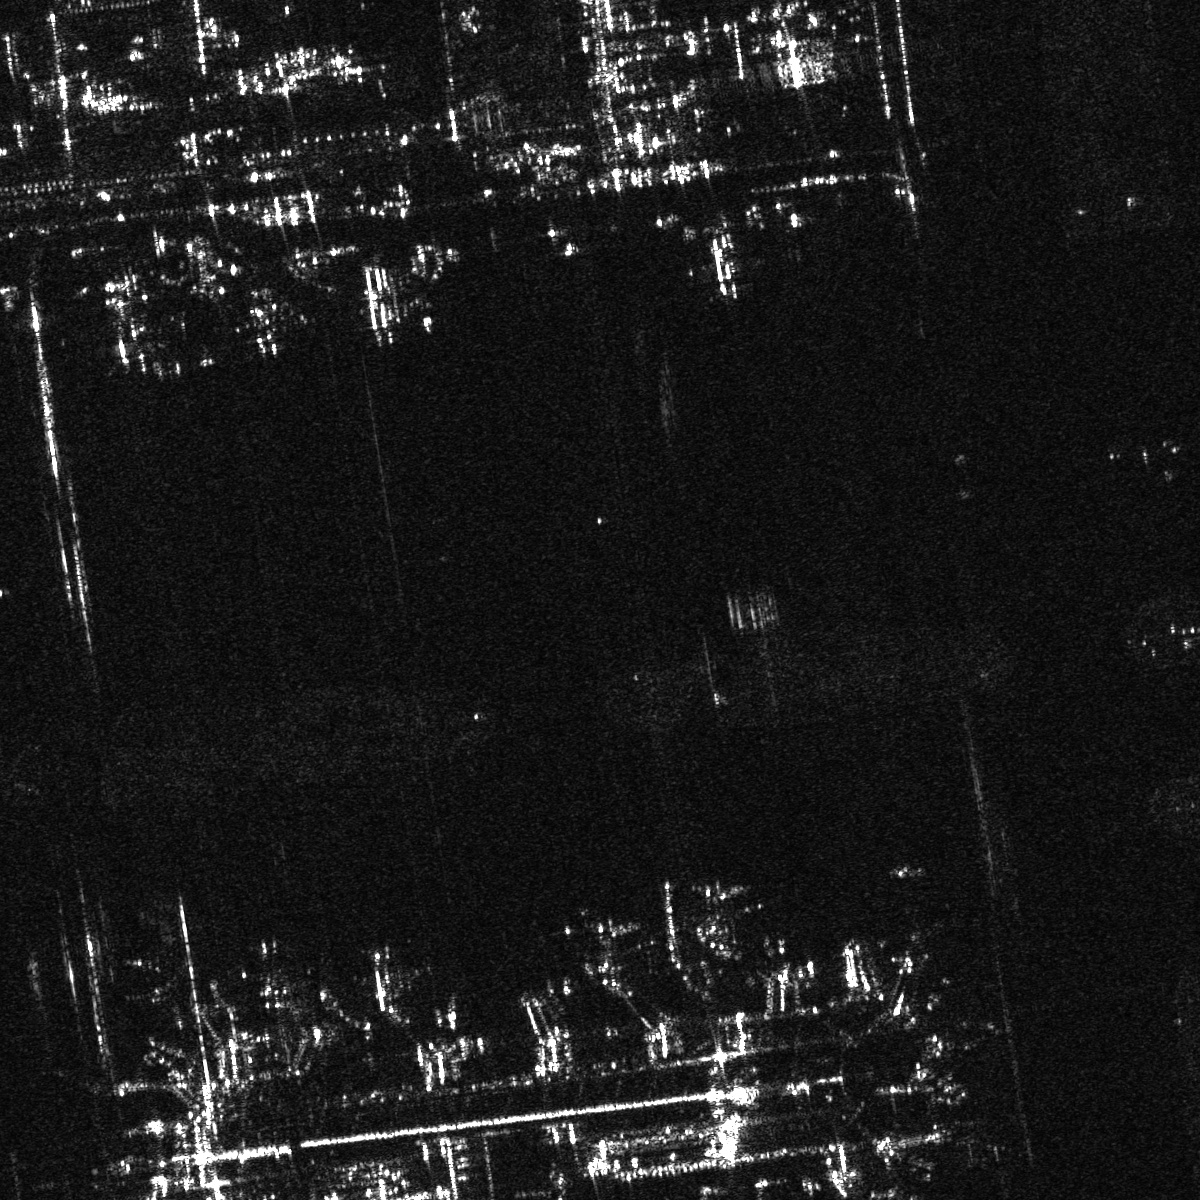A220: (344, 942, 425, 1016), (242, 934, 313, 1008), (565, 901, 645, 964), (684, 863, 749, 915)
Boeing737: (688, 226, 764, 301), (123, 954, 189, 1008)
Boeing787: (231, 282, 305, 358), (159, 233, 236, 304)
